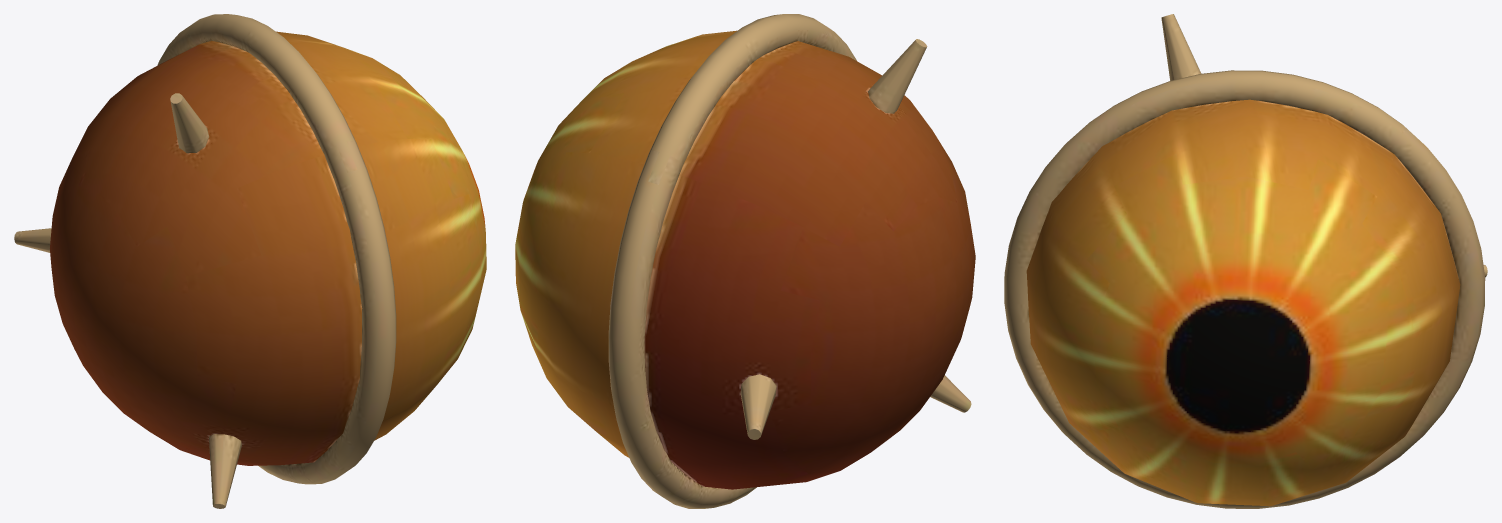
File: eye_altar.glb
3 views of the same model, side by side, from view 1: azimuth 30°, elevation 25°; view 2: azimuth 150°, elevation 25°; view 3: azimuth 270°, elevation 25° (orthographic). The views are drawn at different scales.
Visible parts, largest first — view 1: eye_altar; view 2: eye_altar; view 3: eye_altar.
Boxes of the visible parts, x1,y1,x2,y2 form: eye_altar: (14, 14, 486, 508); eye_altar: (515, 14, 975, 508); eye_altar: (1004, 14, 1487, 508).
Size of the model in its own units: 0.0542 by 0.0597 by 0.06.
1 material, 1 textured.
